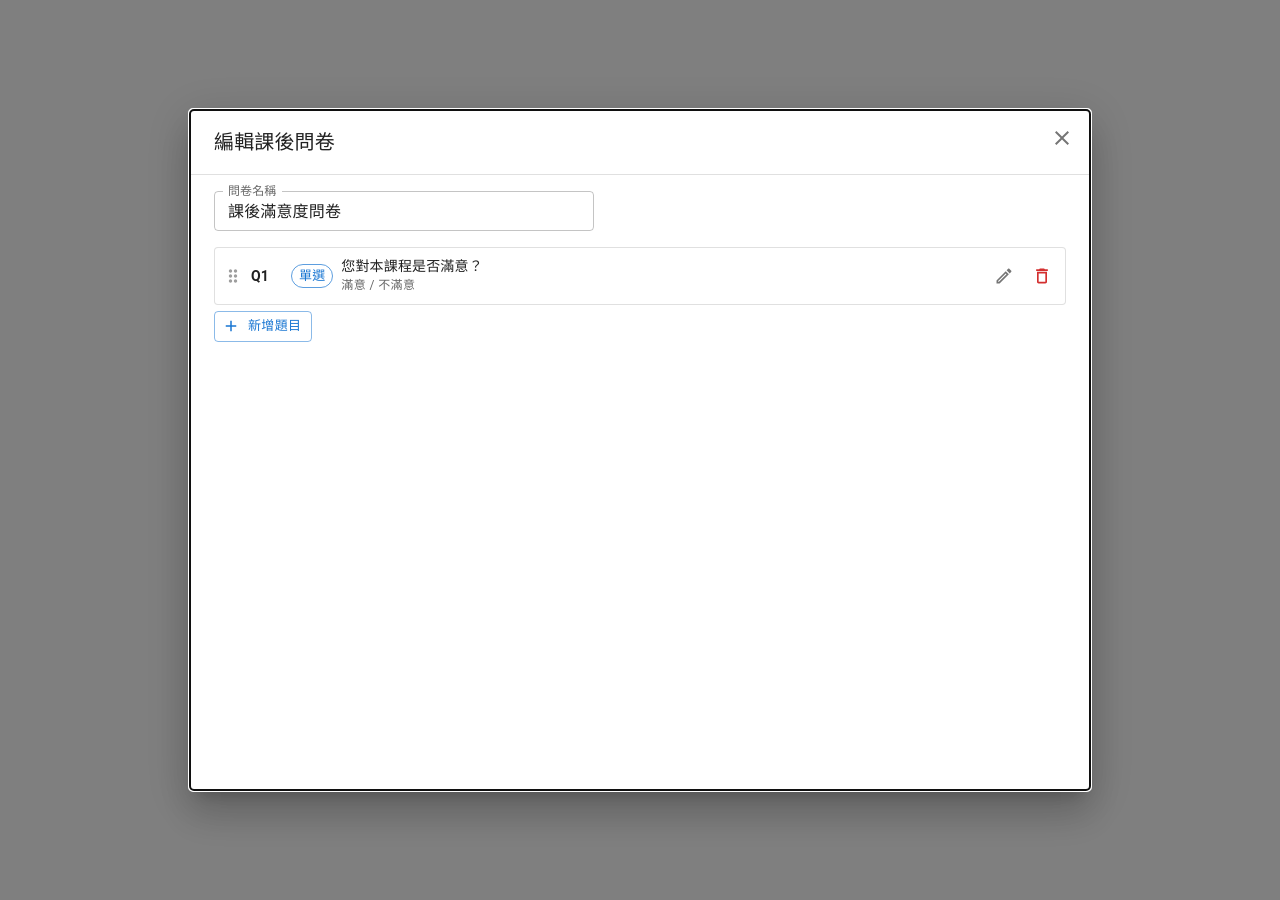
Test case: SurveyDialog：題目清單 › 點新增題目展開編輯器
The width and height of the screenshot is (1280, 900).
Click the button "新增題目" at (263, 326), box [214, 311, 312, 342]
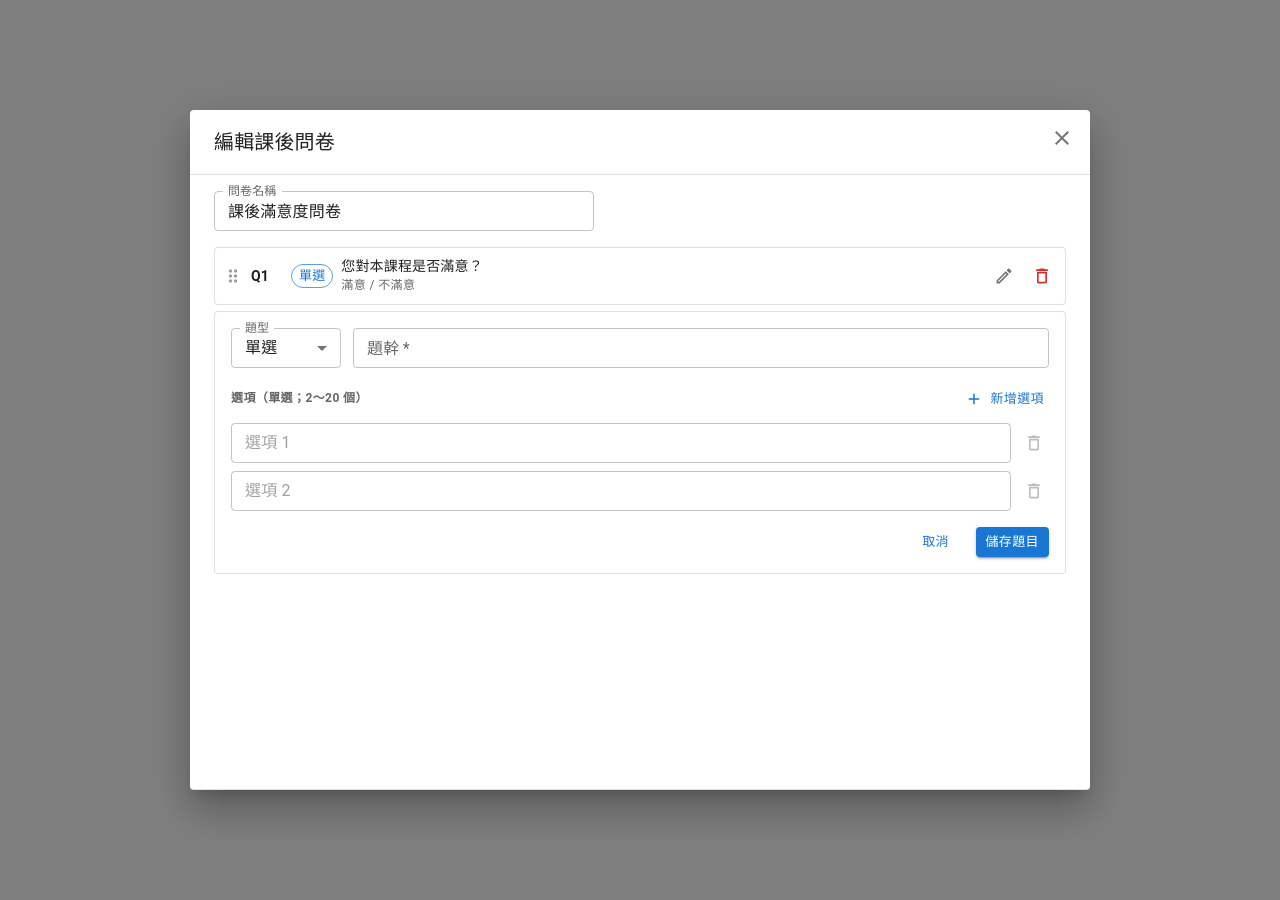
Check: the button "儲存題目" is shown, box [976, 527, 1049, 558]
